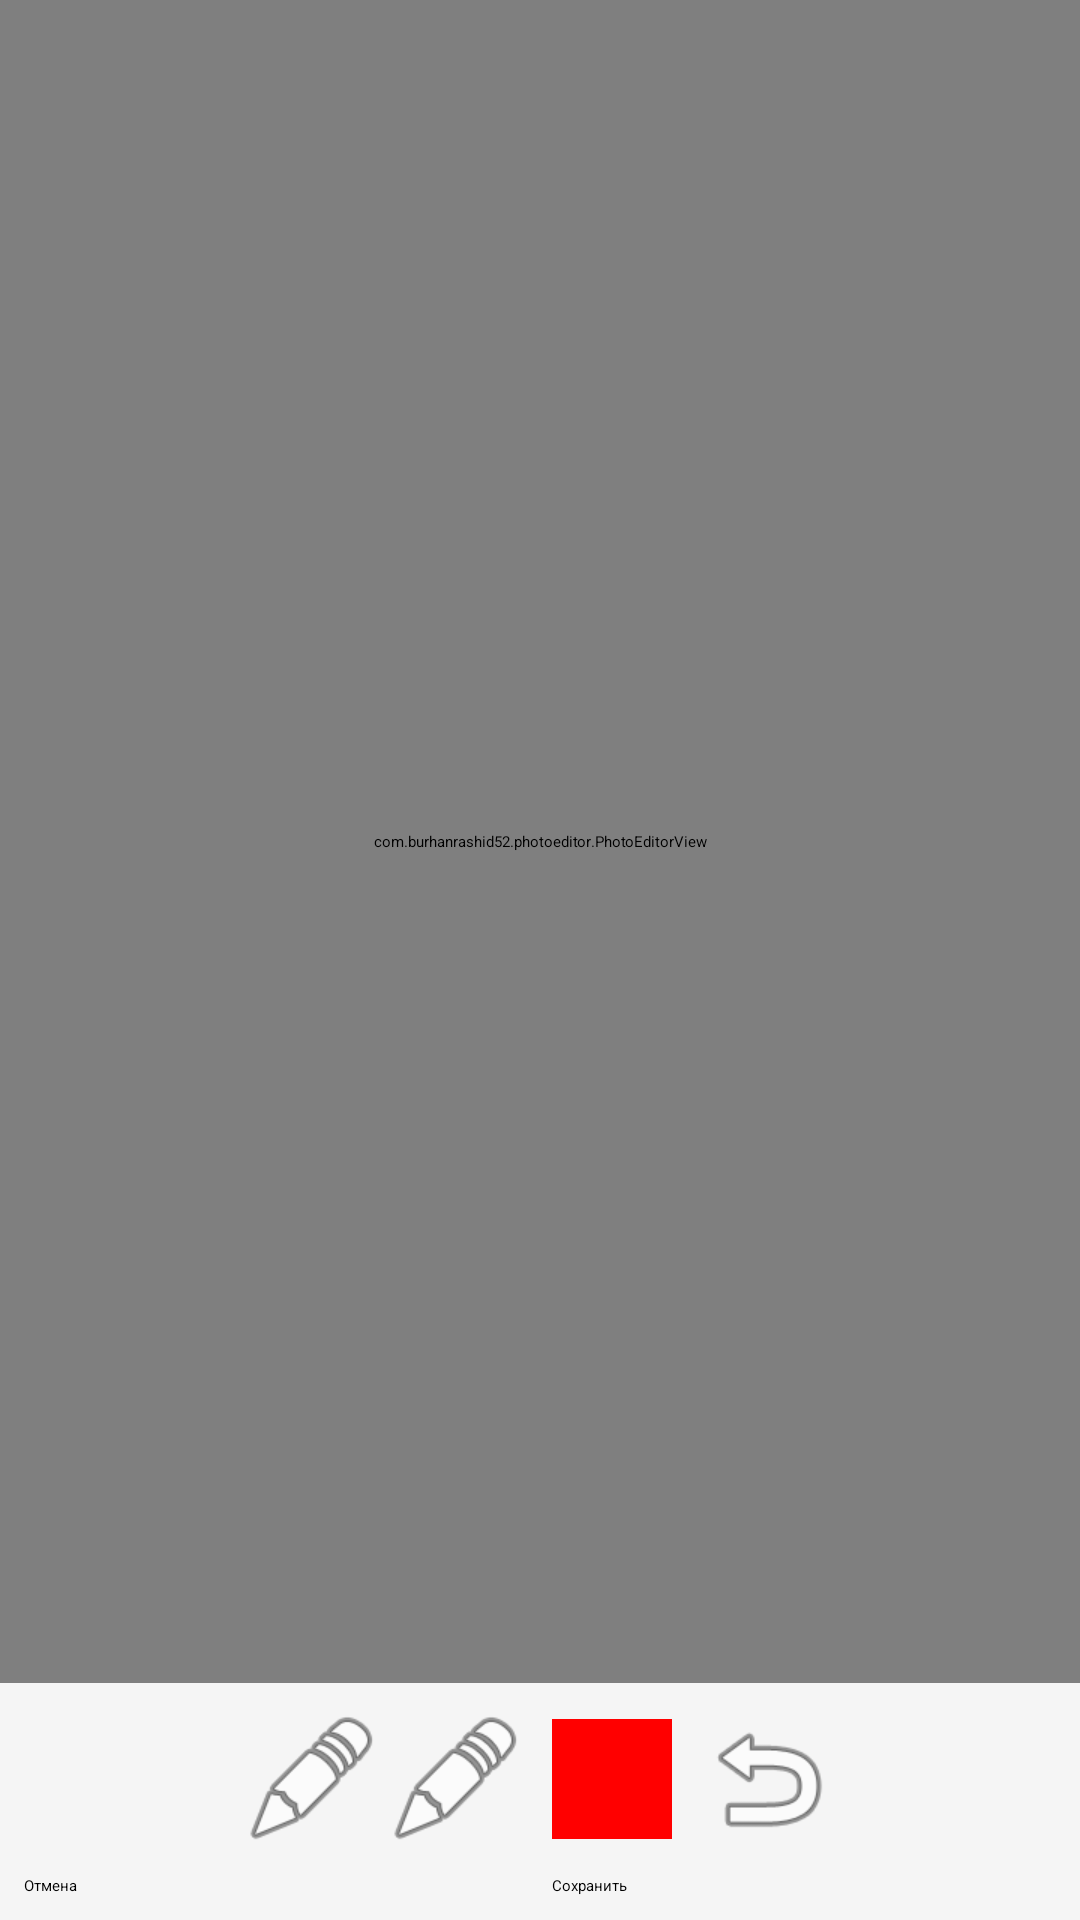

Locate icon controls on the screen. Image size 1080x1920, boxes as (x1,y1,x2,y2).
Отменить: (718,1733,822,1827)
